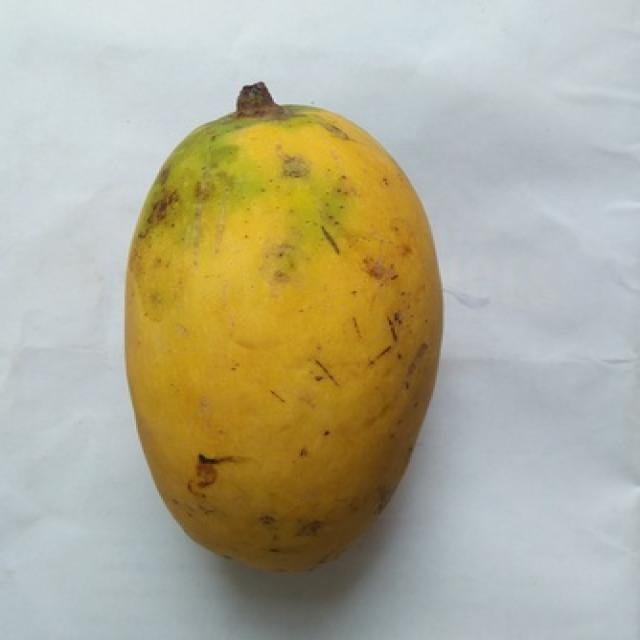Mango: (126, 83, 441, 568)
